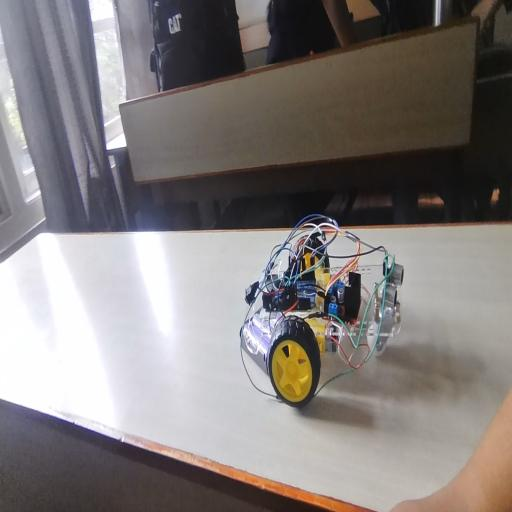car: (233, 189, 403, 429)
